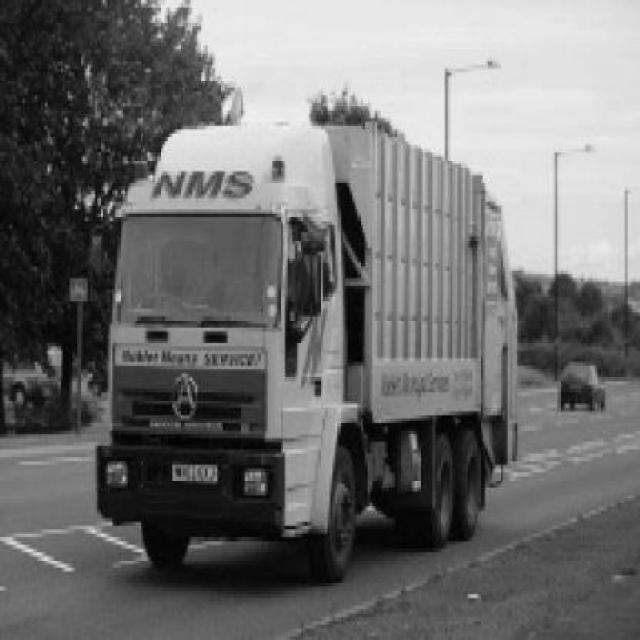Garbage Truck: (93, 124, 520, 584)
